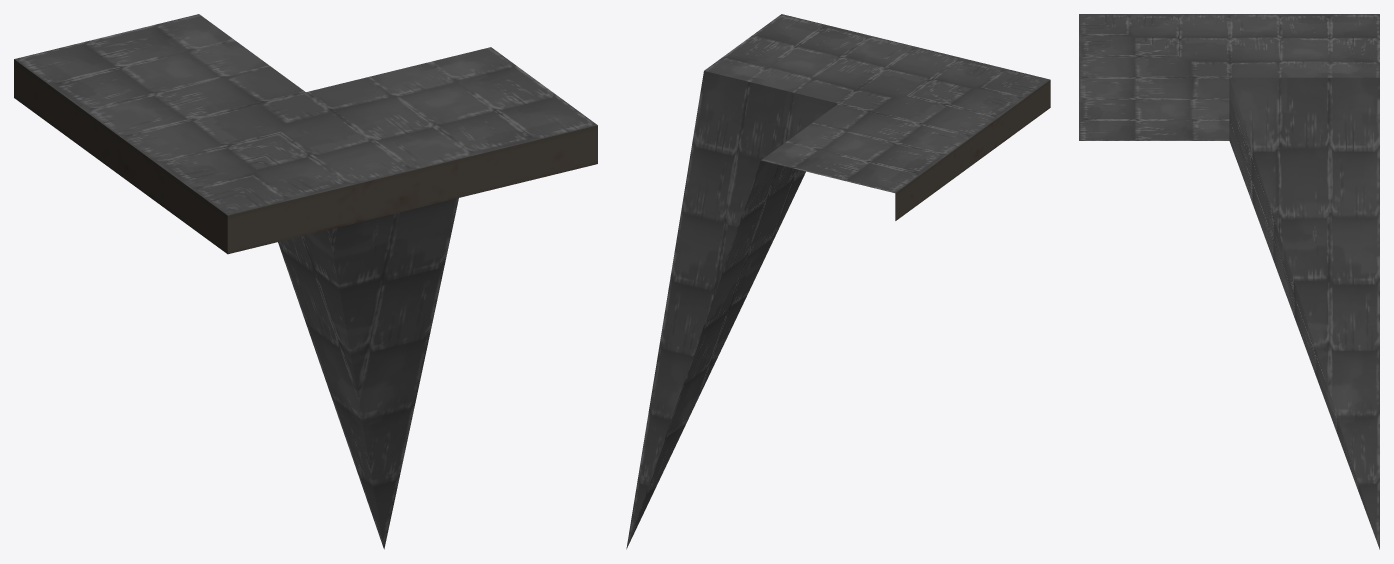
The model's file is roof_slate_innercorner.glb.
3 views of the same model, side by side, from view 1: azimuth 30°, elevation 25°; view 2: azimuth 150°, elevation 25°; view 3: azimuth 270°, elevation 25° (orthographic). The views are drawn at different scales.
Parts seen in each view (by area): view 1: Roof_Slate_InnerCorner; view 2: Roof_Slate_InnerCorner; view 3: Roof_Slate_InnerCorner.
Boxes of the visible parts, <box> form: Roof_Slate_InnerCorner: <box>14,14,597,549</box>; Roof_Slate_InnerCorner: <box>626,14,1050,549</box>; Roof_Slate_InnerCorner: <box>1079,14,1379,549</box>.
Bounding box in the file's own units: 2 × 3 × 2.
Materials: 2 (2 with a texture image).
